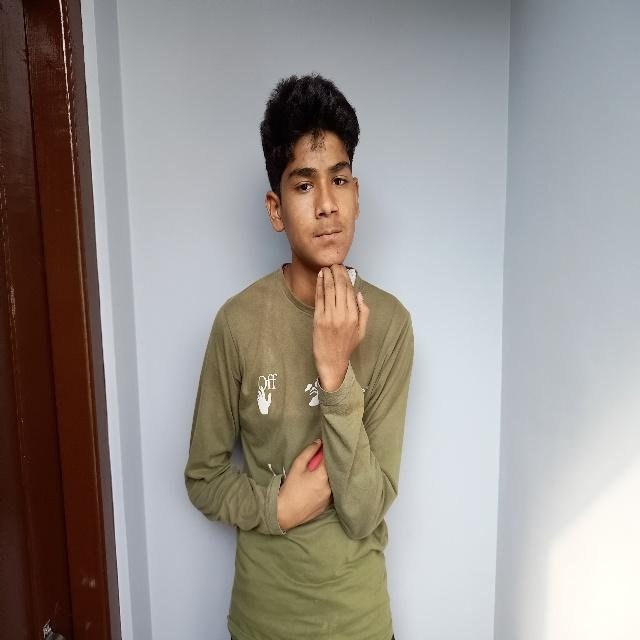Chin Flick: (247, 63, 386, 381)
